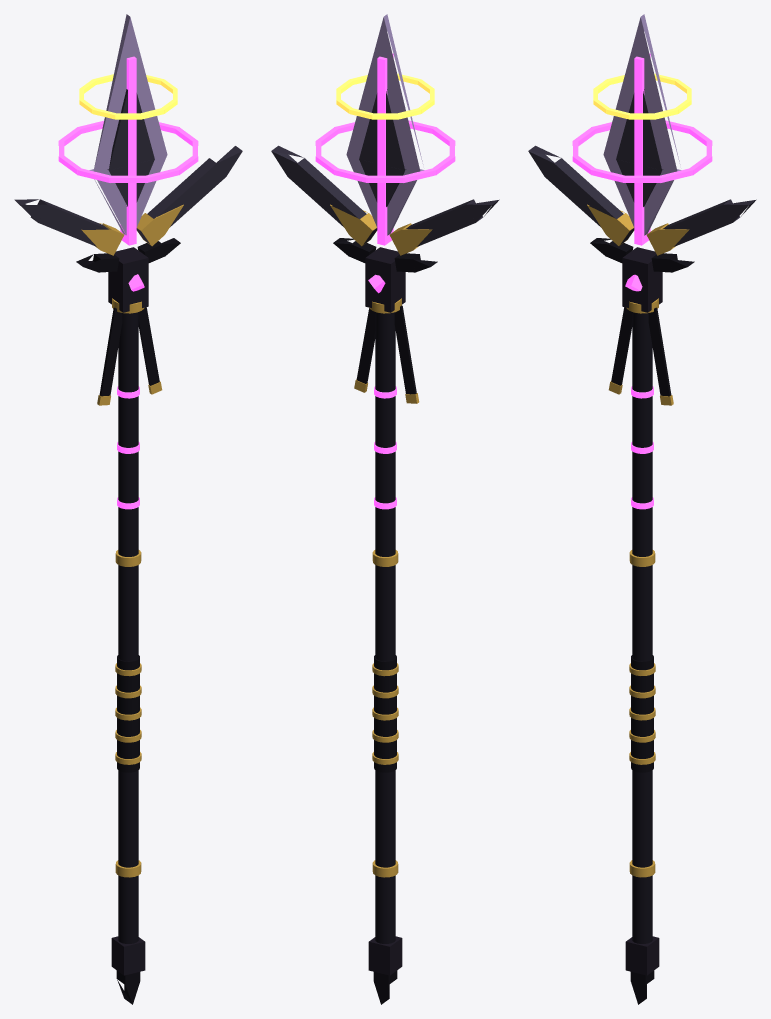
3 views of the same model, side by side, from view 1: azimuth 30°, elevation 25°; view 2: azimuth 150°, elevation 25°; view 3: azimuth 330°, elevation 25° (orthographic).
Visible parts, largest first — view 1: starlance-partisan; view 2: starlance-partisan; view 3: starlance-partisan.
Part boxes in pixels (<box>): starlance-partisan: <box>14,14,242,1004</box>; starlance-partisan: <box>271,14,499,1004</box>; starlance-partisan: <box>528,14,756,1004</box>.
Bounding box in the file's own units: 0.5267 × 2.24 × 0.2878.
